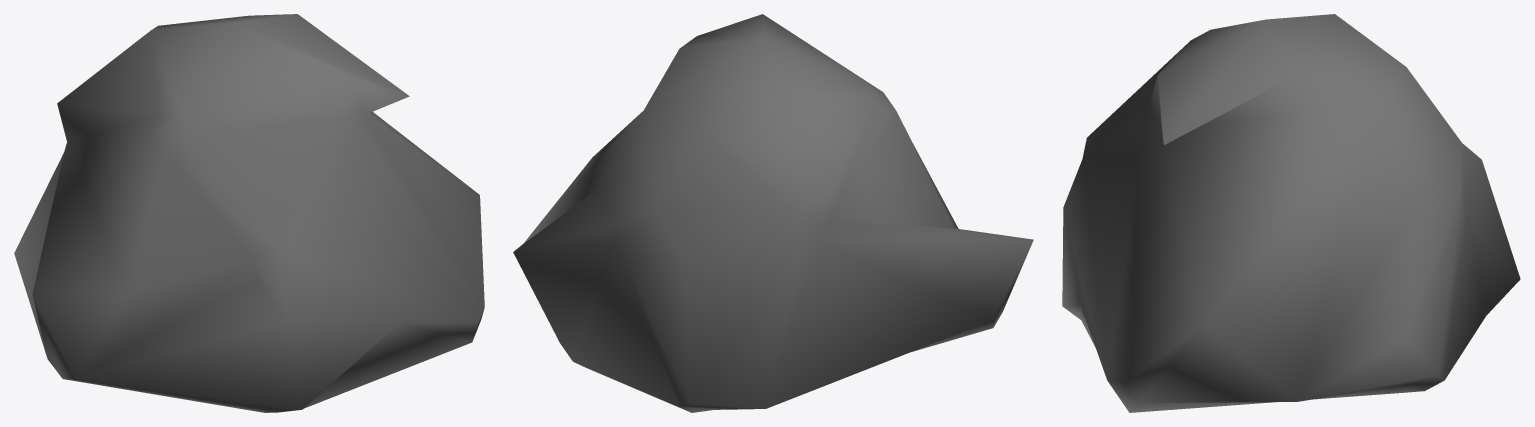
The model's file is deformedRock-06_col.fbx.
3 views of the same model, side by side, from view 1: azimuth 30°, elevation 25°; view 2: azimuth 150°, elevation 25°; view 3: azimuth 270°, elevation 25° (orthographic). The views are drawn at different scales.
Parts seen in each view (by area): view 1: deformedRock-06.col; view 2: deformedRock-06.col; view 3: deformedRock-06.col.
Part boxes in pixels (bbox=[...]): deformedRock-06.col: bbox=[14, 14, 484, 412]; deformedRock-06.col: bbox=[513, 14, 1033, 412]; deformedRock-06.col: bbox=[1062, 14, 1520, 412].
Bounding box in the file's own units: 0.6038 × 0.3962 × 0.4942.
1 material, 1 textured.
